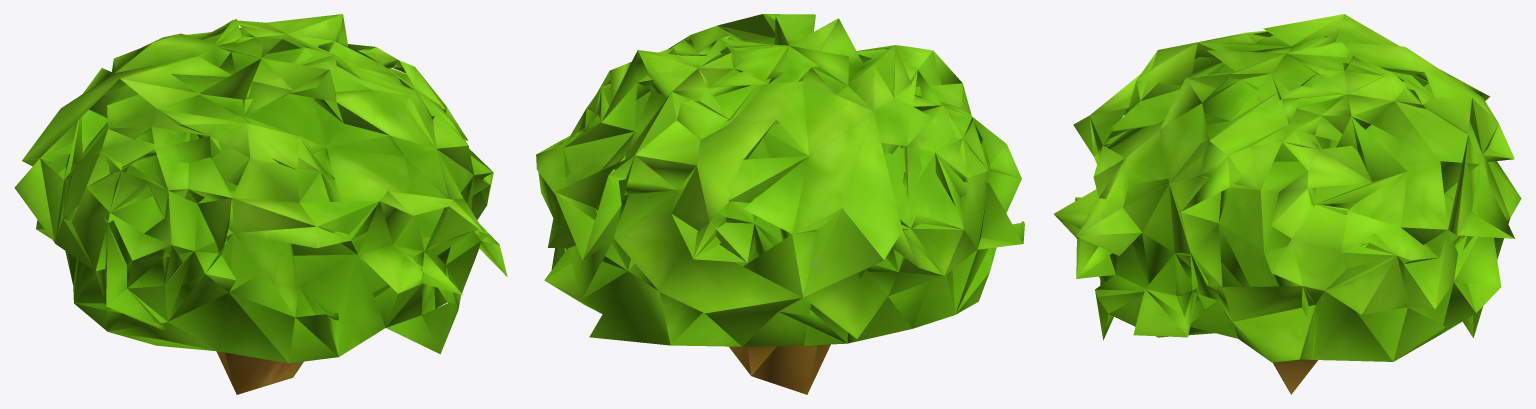
Rendered from leafyBush.glb.
3 views of the same model, side by side, from view 1: azimuth 30°, elevation 25°; view 2: azimuth 150°, elevation 25°; view 3: azimuth 270°, elevation 25° (orthographic). The views are drawn at different scales.
Parts seen in each view (by area): view 1: model; view 2: model; view 3: model.
Part boxes in pixels (left/top/right/bottom): model: left=14, top=14, right=507, bottom=394; model: left=536, top=14, right=1024, bottom=394; model: left=1054, top=14, right=1521, bottom=394.
Bounding box in the file's own units: 1.76 × 1.4 × 1.8.
1 material, 1 textured.
